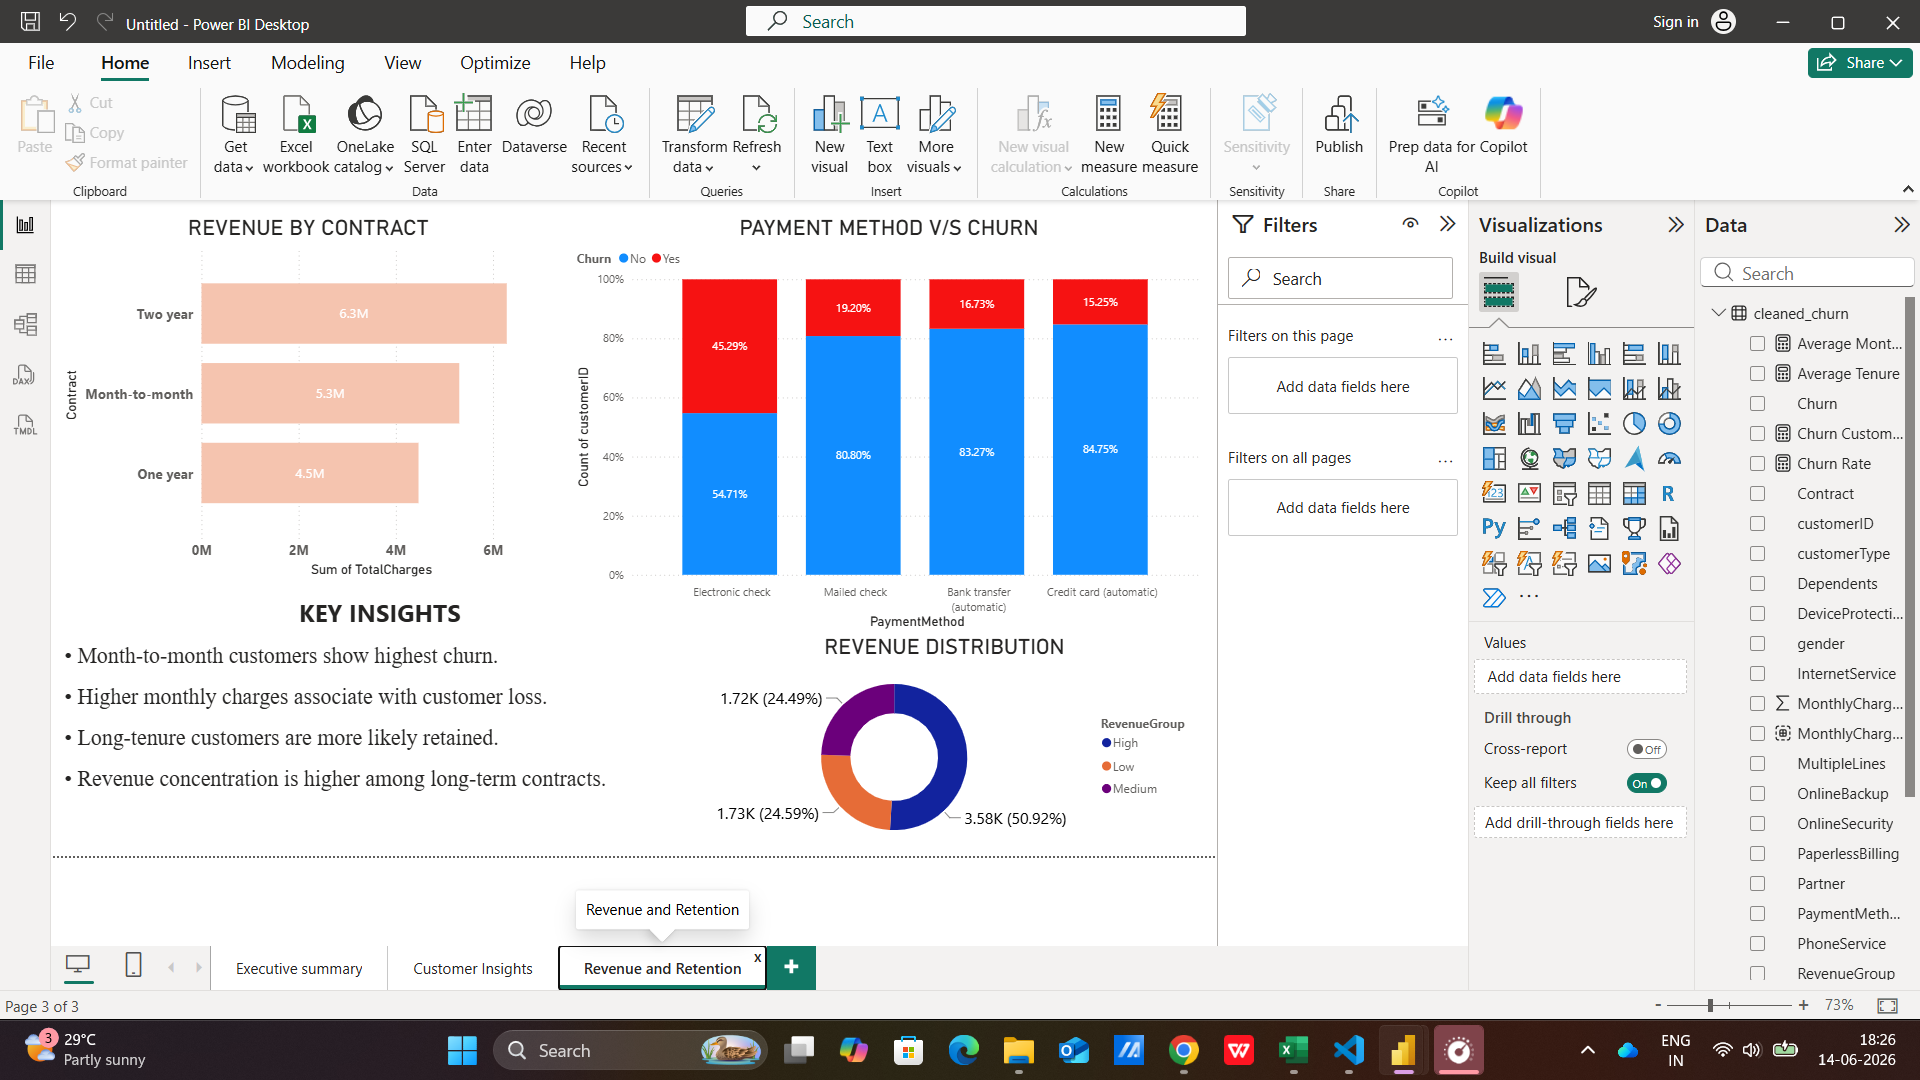

The page's visual inventory and layout, read from the dashboard file:
{"tool":"powerbi","page":{"name":"Revenue and Retention","canvas":[1280,720],"ordinal":2},"visuals":[{"type":"clusteredBarChart","title":"REVENUE BY CONTRACT","fields":{"Category":["cleaned_churn.Contract"],"Y":["Sum(cleaned_churn.TotalCharges)"]},"box":[9.6,16.5,546.1,402.1],"z":0},{"type":"hundredPercentStackedColumnChart","title":"PAYMENT METHOD V/S CHURN","fields":{"Category":["cleaned_churn.PaymentMethod"],"Series":["cleaned_churn.Churn"],"Y":["CountNonNull(cleaned_churn.customerID)"]},"box":[572.2,16.5,695.7,459.7],"z":1},{"type":"textbox","box":[9.6,429.5,684.7,290.9],"z":2},{"type":"donutChart","title":"REVENUE DISTRIBUTION","fields":{"Category":["cleaned_churn.RevenueGroup"],"Y":["CountNonNull(cleaned_churn.customerID)"]},"box":[695,476,573,244],"z":3}]}

Visuals, with their boxes on the page's 1280x720 design canvas (x1, y1, x2, y2). These are canvas units, not pixel positions in the 1920x1080 screenshot, which may show the page scaled, cropped or inside an application window:
"REVENUE BY CONTRACT" clusteredBarChart: <region>10, 16, 556, 419</region>
"PAYMENT METHOD V/S CHURN" hundredPercentStackedColumnChart: <region>572, 16, 1268, 476</region>
textbox: <region>10, 430, 694, 720</region>
"REVENUE DISTRIBUTION" donutChart: <region>695, 476, 1268, 720</region>
